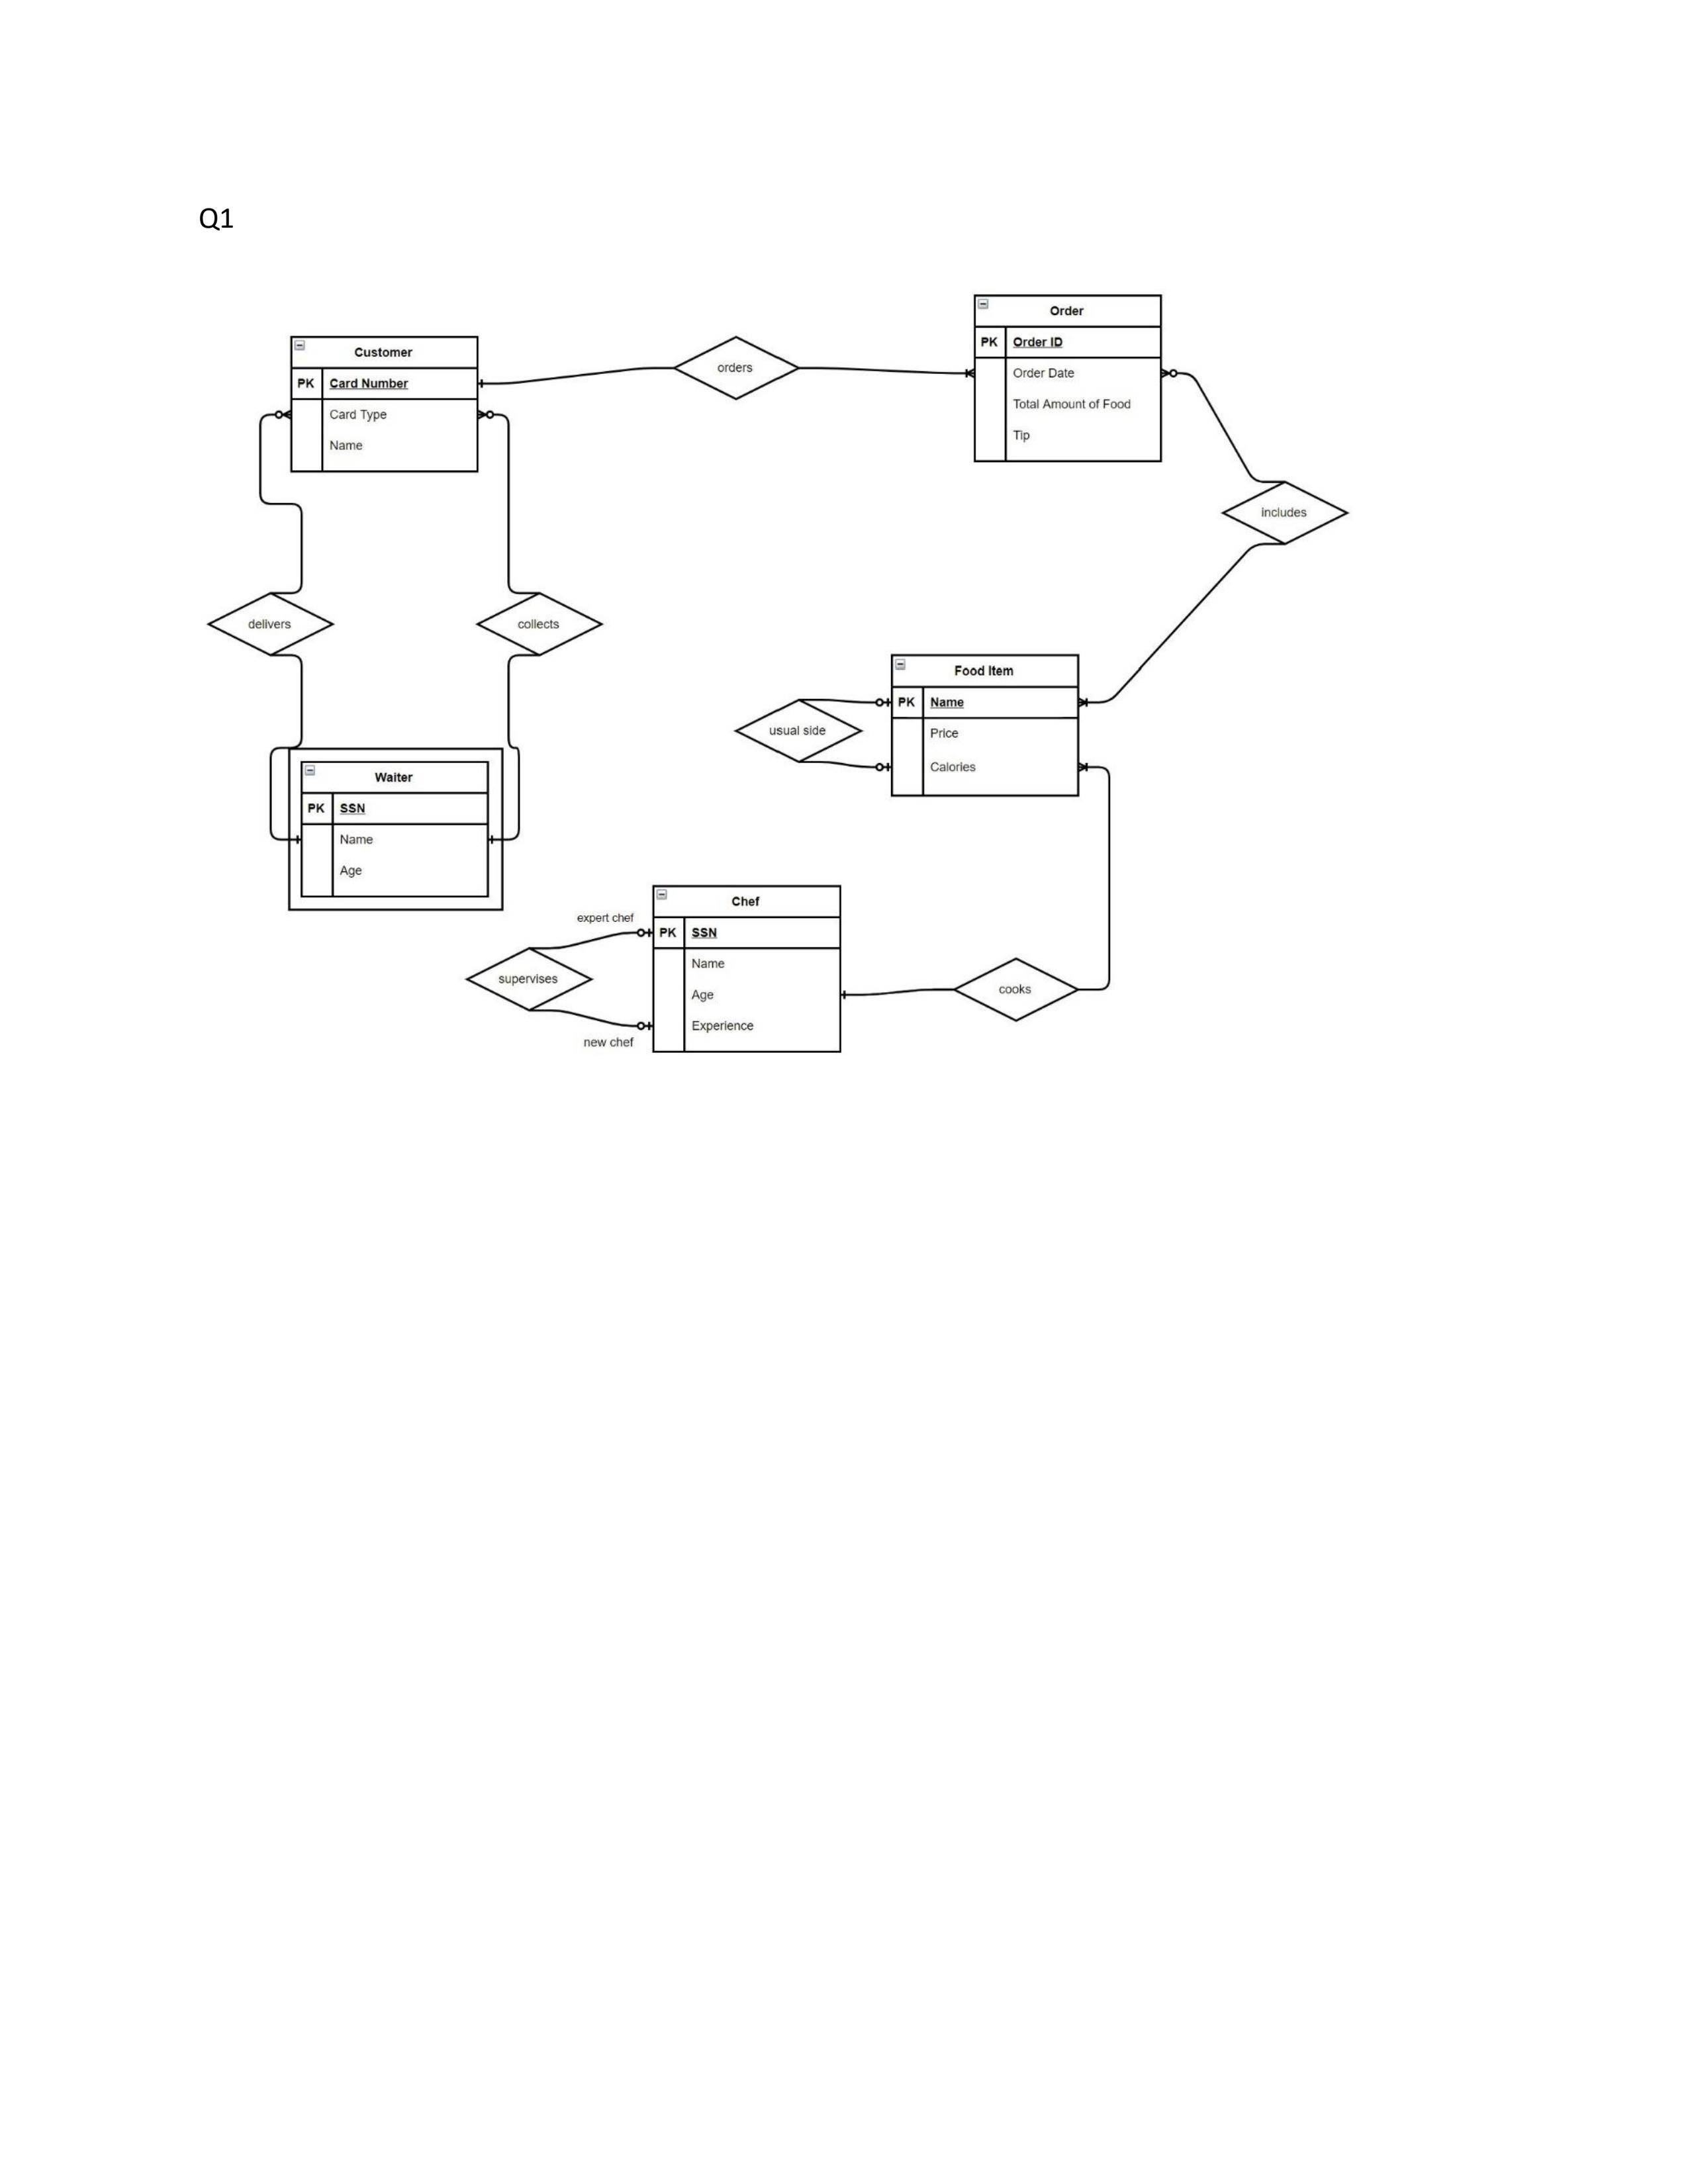Entity: (651, 885, 844, 1055), (972, 292, 1163, 463), (888, 652, 1082, 799), (298, 757, 491, 901), (289, 335, 479, 473)
Relationship: (954, 956, 1078, 1025), (674, 335, 800, 401), (1222, 480, 1349, 544), (475, 592, 605, 654), (206, 594, 335, 656), (465, 948, 594, 1010)
